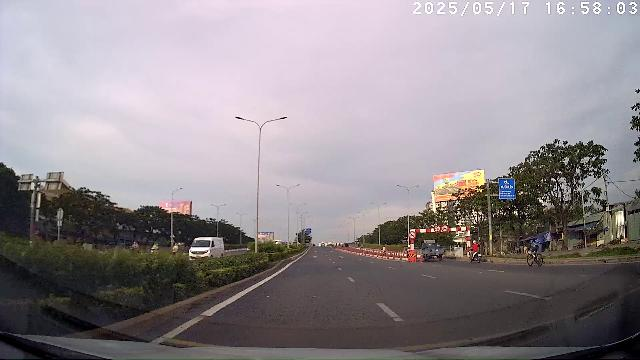103a-cam-oto: (442, 224, 448, 231)
